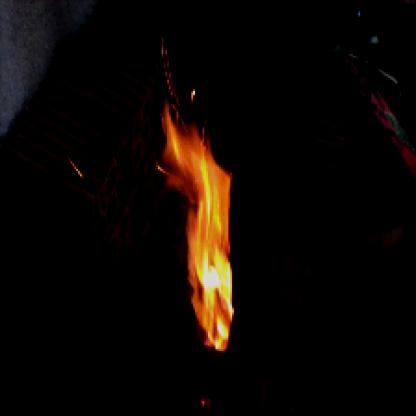Fire: (154, 76, 242, 355)
